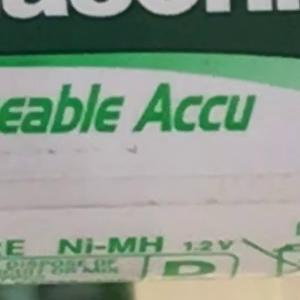NI-MH: (49, 228, 145, 263)
